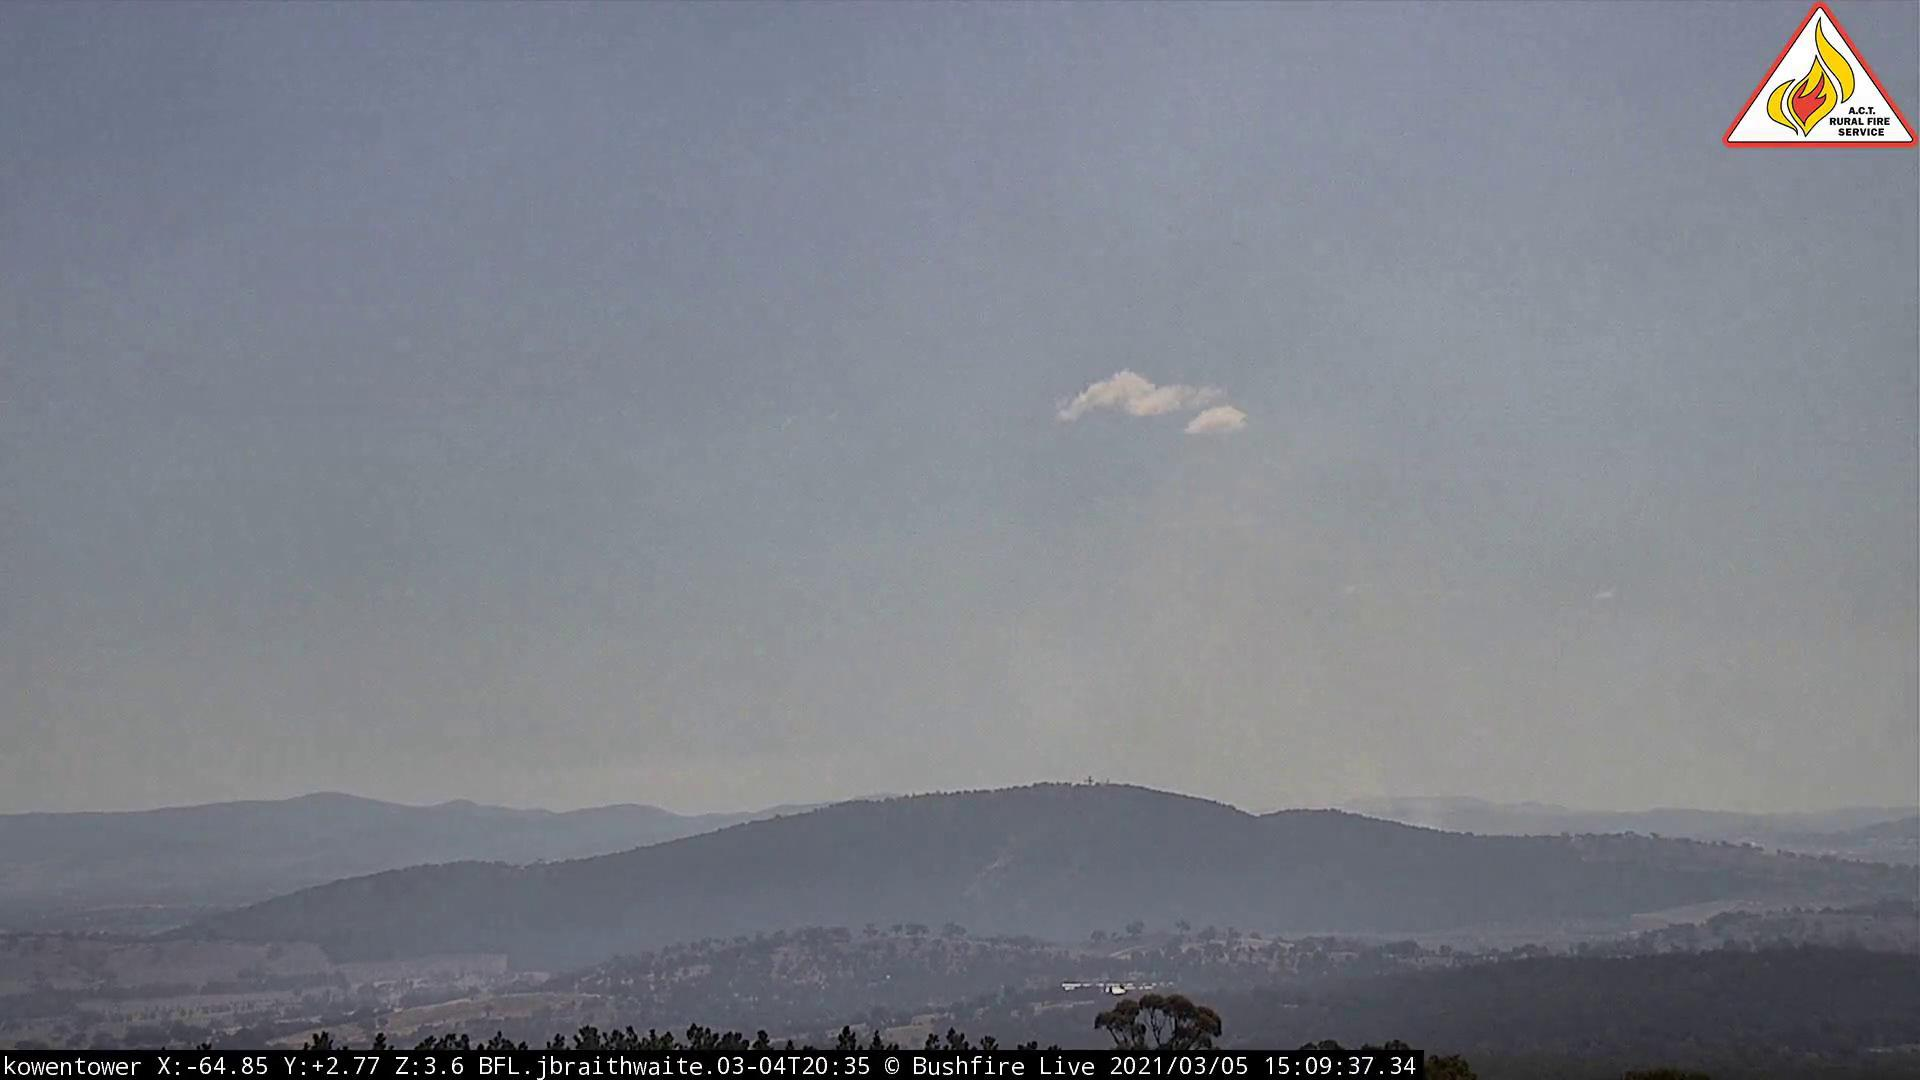Smoke: (998, 452, 1466, 835)
